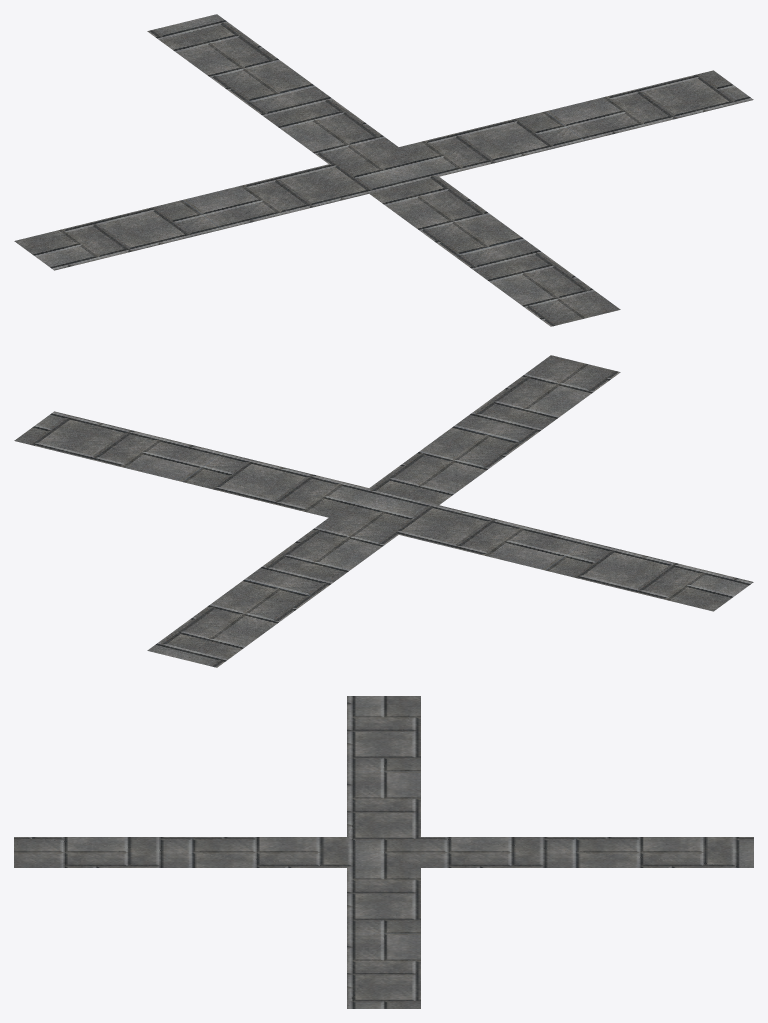
Rendered from HallwayCross.fbx.
The picture shows the model from 3 angles, top to bottom: view 1: azimuth 30°, elevation 25°; view 2: azimuth 150°, elevation 25°; view 3: azimuth 270°, elevation 25°; orthographic projection. The views are drawn at different scales.
Parts seen in each view (by area): view 1: HallWcross; view 2: HallWcross; view 3: HallWcross.
Boxes of the visible parts, left/top/right/bottom form: HallWcross: left=14, top=14, right=753, bottom=326; HallWcross: left=14, top=355, right=753, bottom=667; HallWcross: left=14, top=696, right=753, bottom=1008.
Size of the model in its own units: 1000 by 0.000163 by 1000.
Materials: 1 (1 with a texture image).
